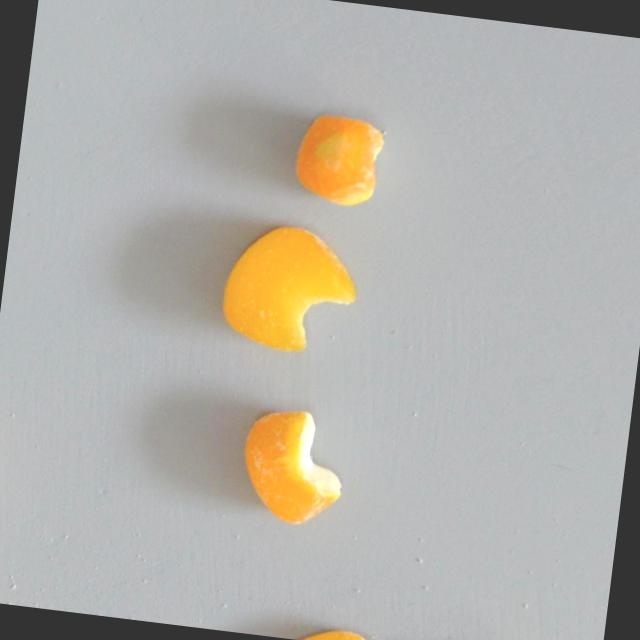no_canjicado: (269, 620, 388, 640)
pelicula: (214, 218, 361, 360), (233, 402, 349, 529), (287, 110, 385, 209)
